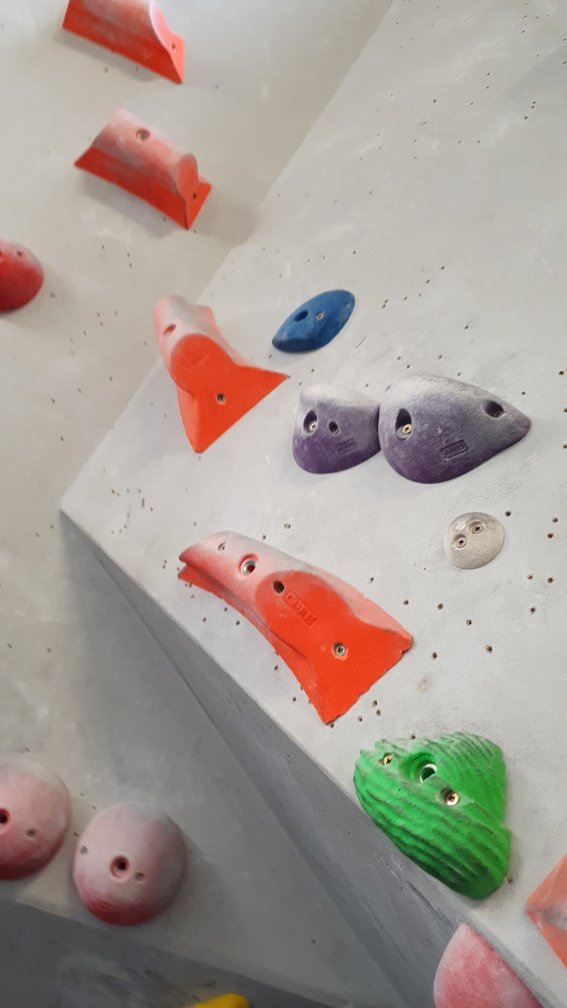Crimp: (274, 291, 358, 357)
Jug: (352, 727, 522, 905), (376, 370, 535, 490), (290, 379, 386, 475)
Pinch: (177, 526, 422, 722), (152, 289, 295, 454), (75, 109, 215, 229), (54, 1, 193, 84)
Sloper: (71, 803, 190, 928), (1, 753, 73, 887)
